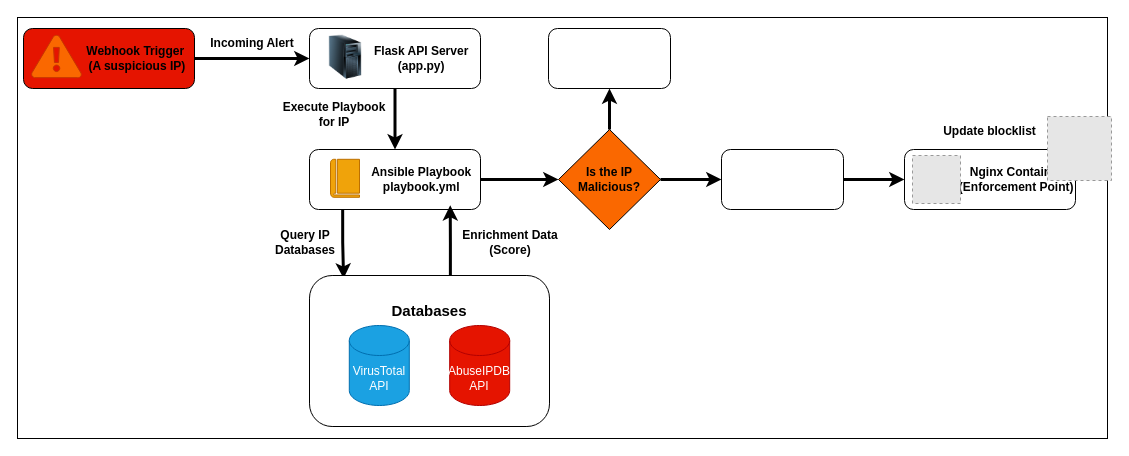
Image size: 1129x456. Some labels were removed from this diagram. Grey dashed boxes stand in for pictures. Each missing label, with the centre of its shape:
NO (No action): the point at 609,58
YES: the point at 782,179
